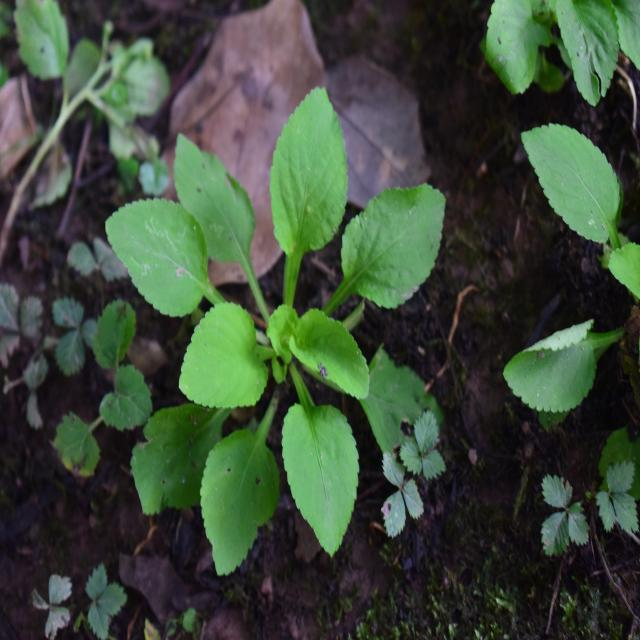Viola: (140, 96, 422, 561)
